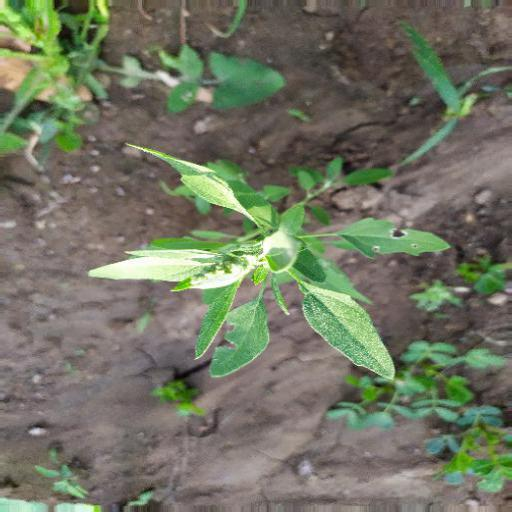weed: (100, 132, 444, 409)
